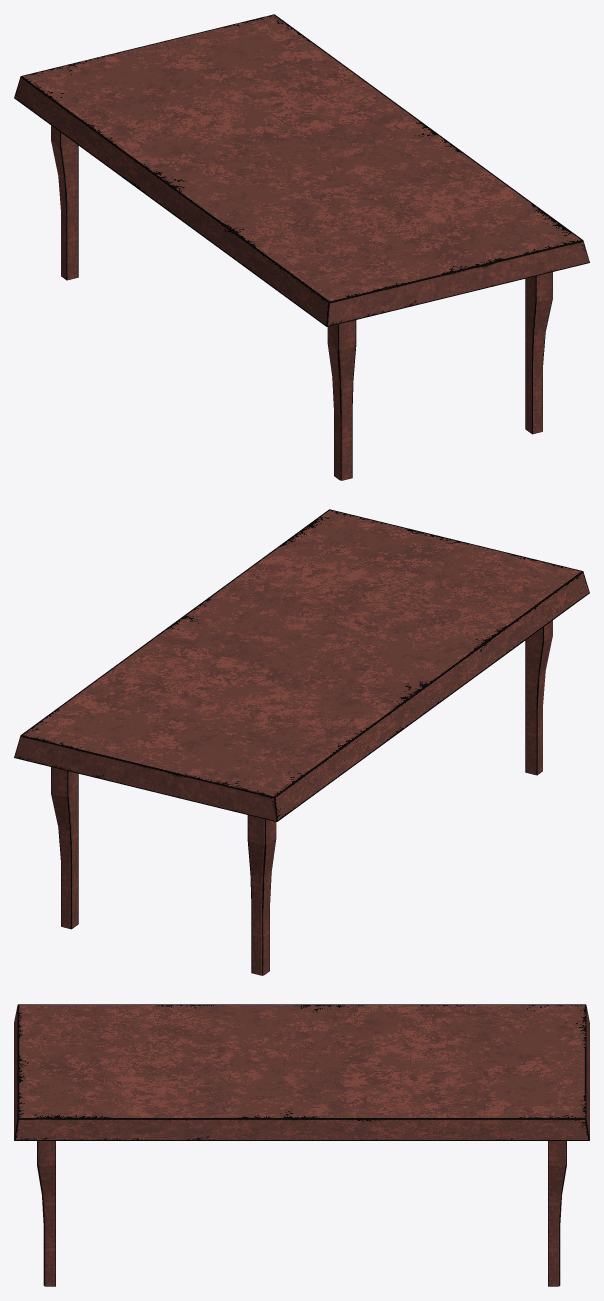
Rendered from table.fbx.
The picture shows the model from 3 angles, top to bottom: view 1: azimuth 30°, elevation 25°; view 2: azimuth 150°, elevation 25°; view 3: azimuth 270°, elevation 25°; orthographic projection. The views are drawn at different scales.
Parts seen in each view (by area): view 1: Table; view 2: Table; view 3: Table.
Boxes of the visible parts, x1,y1,x2,y2 form: Table: [14, 14, 589, 480]; Table: [14, 509, 589, 975]; Table: [14, 1004, 589, 1286].
Bounding box in the file's own units: 108 × 76.2 × 222.
